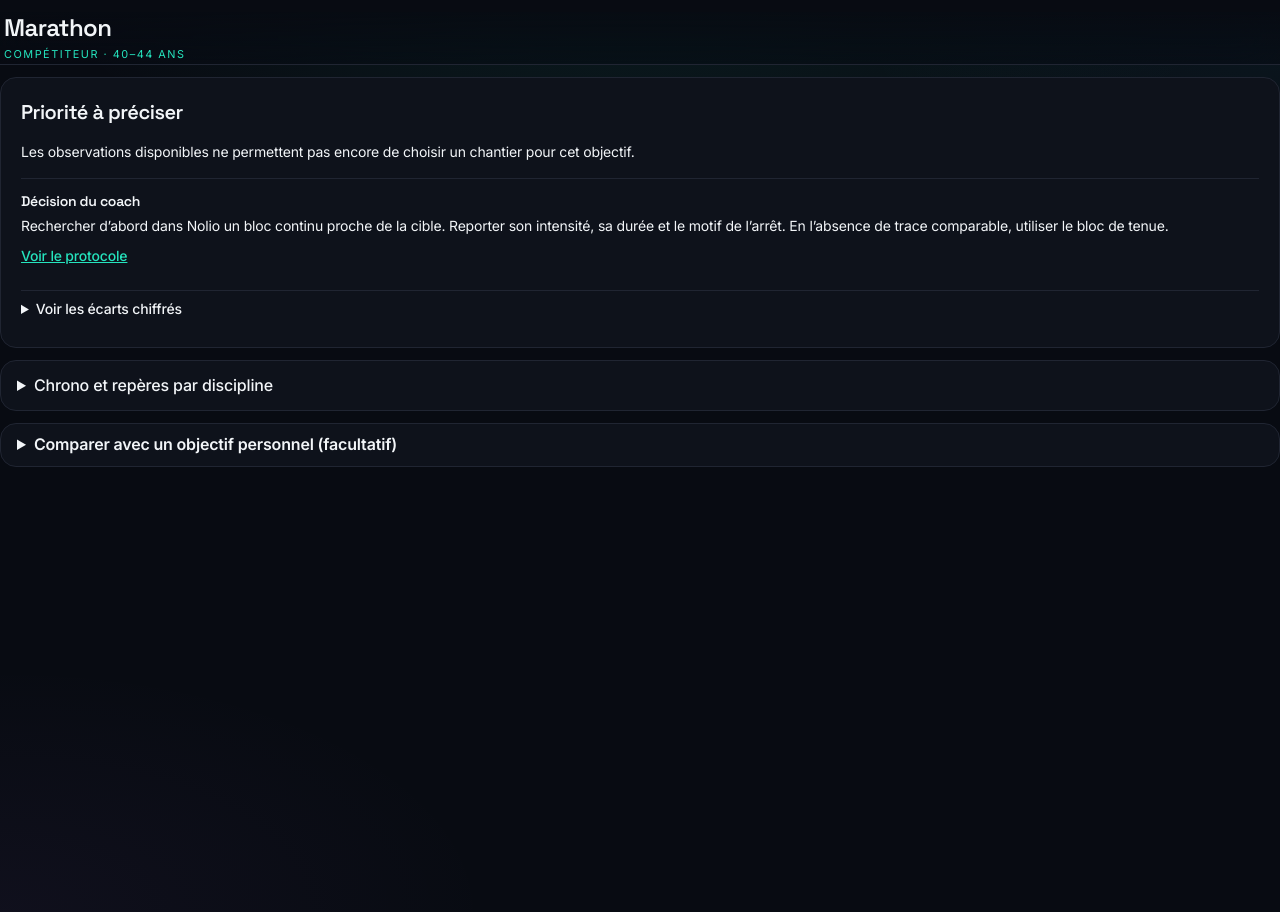
Scenario: shows a one-sided field duration and withholds the chart for conflicting efforts
This screenshot has width=1280, height=912.
Later steps or results of the test are not shown.
Click the heading "Voir les écarts chiffrés". click: (109, 308)
box: [36,300,182,317]
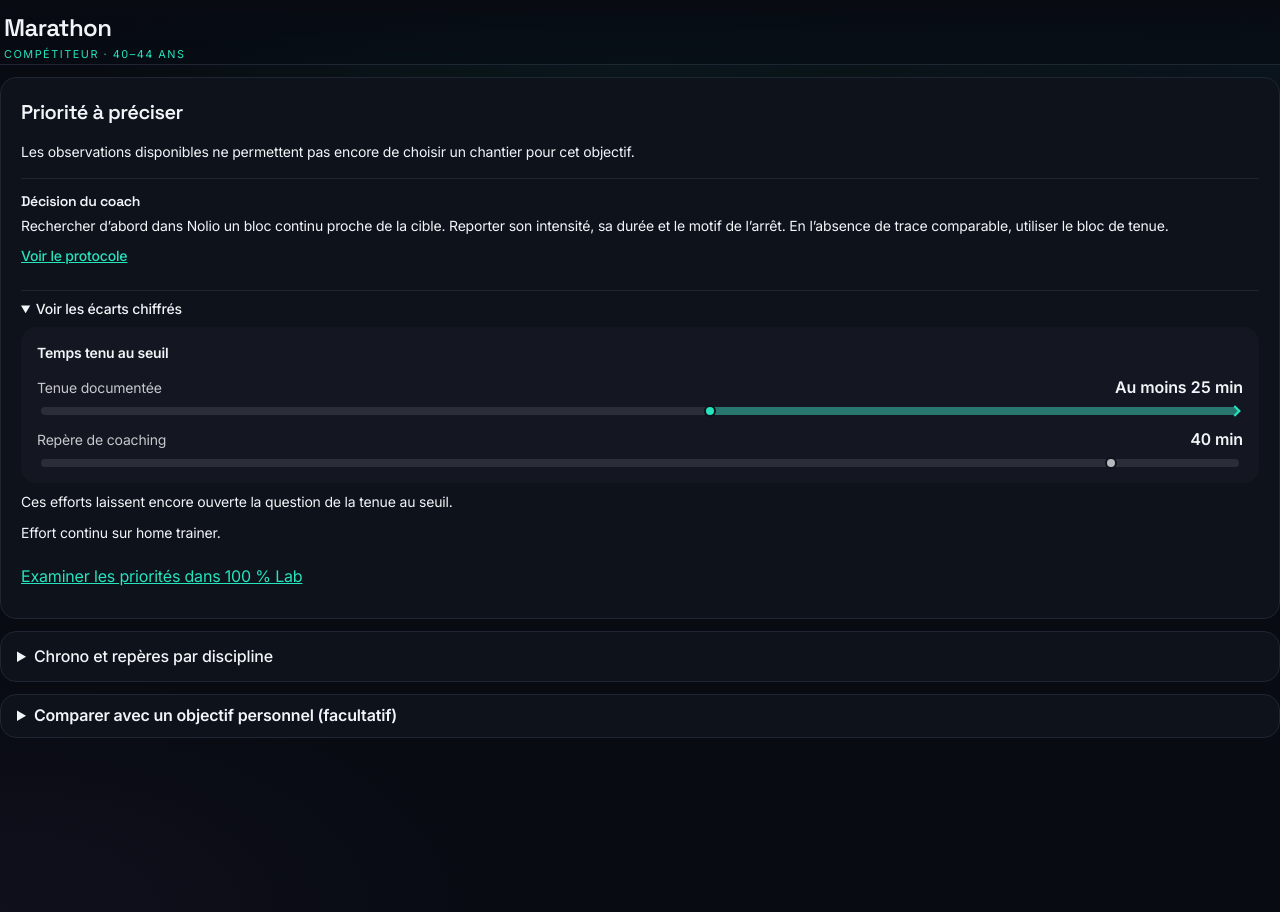
Check: the element "Temps tenu au seuil" shows "Au moins 25 min", box [1115,377,1243,397]
